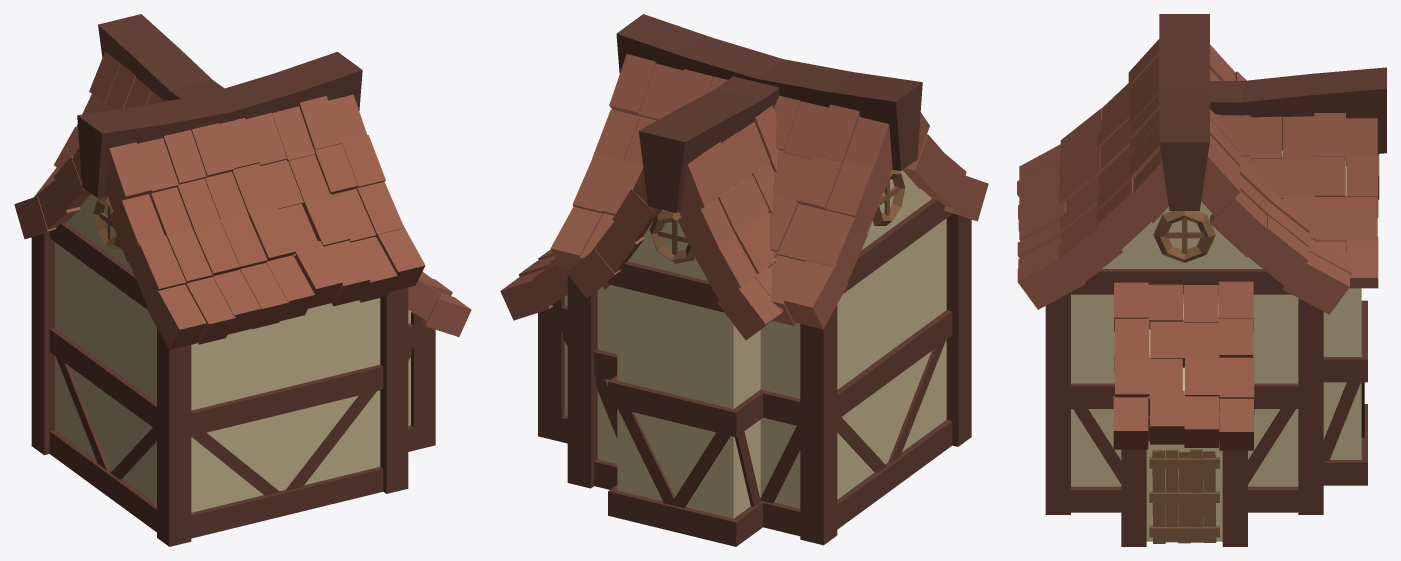
The model's file is fang01(1).fbx.
3 views of the same model, side by side, from view 1: azimuth 30°, elevation 25°; view 2: azimuth 150°, elevation 25°; view 3: azimuth 270°, elevation 25° (orthographic). The views are drawn at different scales.
Visible parts, largest first — view 1: Cube, Cube.002, Cube.006, Cube.028, Cube.030, Cube.001, Torus.001; view 2: Cube, Cube.002, Cube.006, Cube.028, Cube.030, Cube.001, Torus.001; view 3: Cube, Cube.006, Cube.002, Cube.001, Cube.028, Cube.029, Cube.030, Torus.001.
Part boxes in pixels (<box>): Cube: <box>14,52,425,349</box>; Cube.002: <box>55,194,411,512</box>; Cube.006: <box>31,222,435,546</box>; Cube.028: <box>77,14,362,197</box>; Cube.030: <box>56,349,412,495</box>; Cube.001: <box>408,271,471,336</box>; Torus.001: <box>93,196,121,249</box>; Cube: <box>550,54,988,340</box>; Cube.002: <box>564,170,946,518</box>; Cube.006: <box>538,198,971,546</box>; Cube.028: <box>616,14,922,212</box>; Cube.030: <box>563,333,945,507</box>; Cube.001: <box>500,249,567,320</box>; Torus.001: <box>649,169,905,263</box>; Cube: <box>1017,39,1379,314</box>; Cube.006: <box>1045,246,1367,546</box>; Cube.002: <box>1071,150,1361,541</box>; Cube.001: <box>1113,281,1254,450</box>; Cube.028: <box>1159,14,1386,210</box>; Cube.029: <box>1149,449,1219,543</box>; Cube.030: <box>1073,382,1364,484</box>; Torus.001: <box>1153,211,1215,262</box>.
Bounding box in the file's own units: 320 × 331 × 293.
